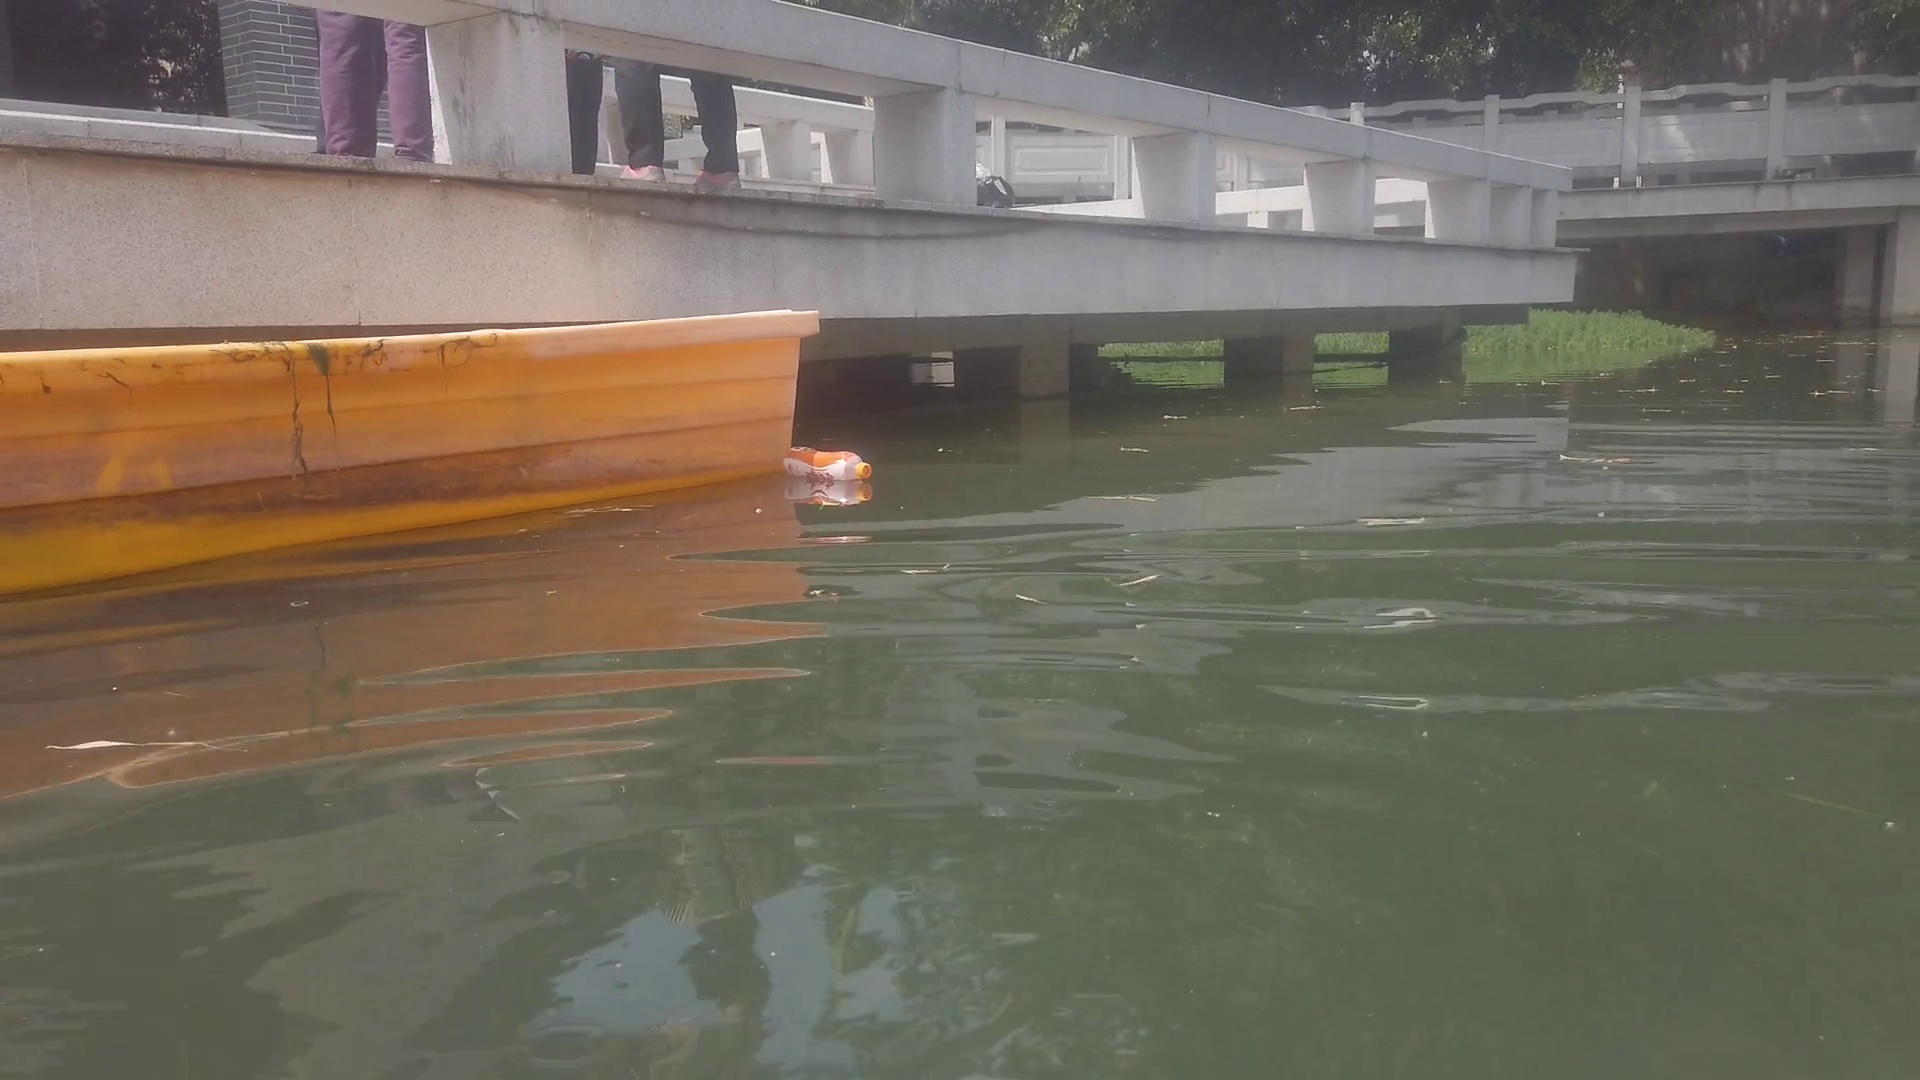bottle: (782, 446, 872, 483)
